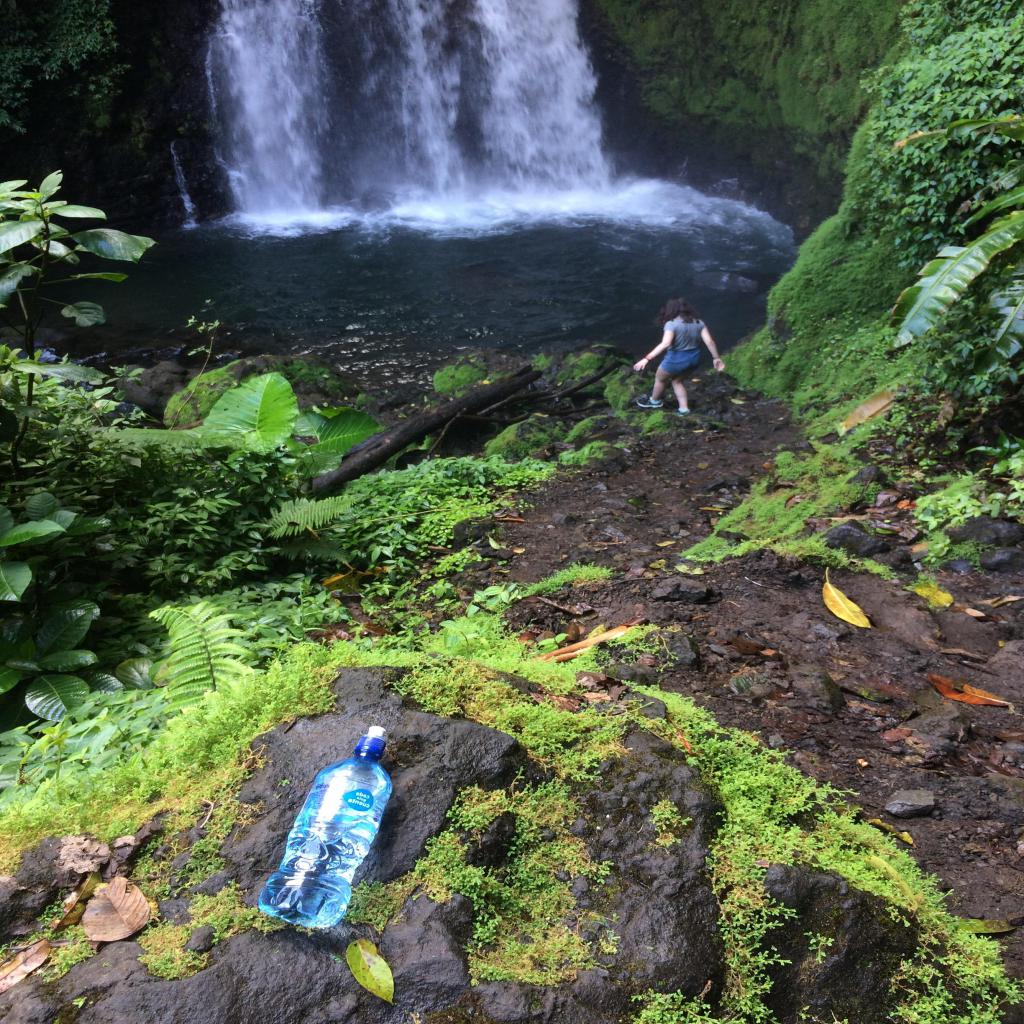Clear plastic bottle: (258, 726, 392, 928)
Plastic bottle cap: (354, 726, 386, 754)
